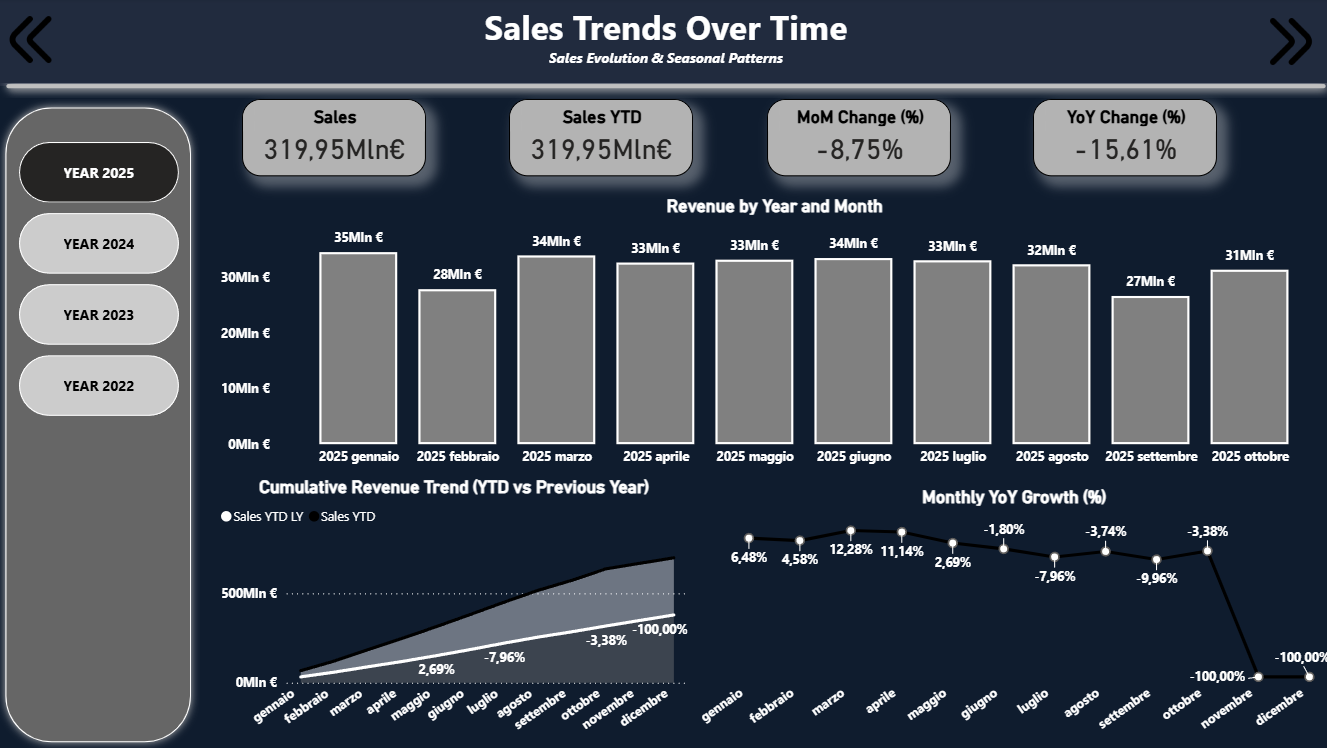

The dashboard page shown, as its layout file describes it:
{"tool":"powerbi","page":{"name":"Time Trends","canvas":[1280,720],"ordinal":4},"visuals":[{"type":"shape","box":[0,0,1280,84.2],"z":0},{"type":"shape","box":[0,72.5,1280,23.2],"z":1000},{"type":"textbox","box":[0,0,1280,85.5],"z":2000},{"type":"image","box":[0,17.3,63.6,45.3],"z":3000},{"type":"image","box":[1207.8,19.4,63.6,45.3],"z":4000},{"type":"card","title":"Sales","fields":{"Values":["MISURE.Fatturato"]},"box":[234.7,96.6,176.3,74.1],"z":5000},{"type":"card","title":"YoY Change (%)","fields":{"Values":["MISURE.Variazione Anno %"]},"box":[991.4,96.6,176.3,74.1],"z":6000},{"type":"card","title":"MoM Change (%)","fields":{"Values":["MISURE.Variazione Mese %"]},"box":[736.6,96.6,176.3,74.1],"z":7000},{"type":"card","title":"Sales YTD","fields":{"Values":["MISURE.Fatturato YTD"]},"box":[489.5,96.6,176.3,74.1],"z":8000},{"type":"columnChart","title":"Revenue by Year and Month","fields":{"Category":["CALENDARIO.Date.Variazione.Gerarchia data.Anno","CALENDARIO.Date.Variazione.Gerarchia data.Mese"],"Y":["MISURE.Fatturato"]},"box":[208.8,188.6,1071.2,268.4],"z":9000},{"type":"lineChart","title":"Monthly YoY Growth (%)","fields":{"Category":["CALENDARIO.Date.Variazione.Gerarchia data.Anno","CALENDARIO.Date.Variazione.Gerarchia data.Mese"],"Y":["MISURE.Variazione Anno %"]},"box":[665.8,467.1,614.2,252.6],"z":10000},{"type":"stackedAreaChart","title":"Cumulative Revenue Trend (YTD vs Previous Year)","fields":{"Category":["CALENDARIO.Date.Variazione.Gerarchia data.Anno","CALENDARIO.Date.Variazione.Gerarchia data.Mese"],"Y":["MISURE.Fatturato YTD LY","MISURE.Fatturato YTD"]},"box":[208.8,457,457,262.7],"z":11000},{"type":"shape","box":[0,96.3,193.6,623.5],"z":12000},{"type":"bookmarkNavigator","box":[21.4,137.5,153.5,264.3],"z":13000}]}

Visuals, with their boxes in screenshot pixels (x1, y1, x2, y2), scaled from the page's 1280x720 canvas onto the 1327x748 screenshot:
shape: pyautogui.locateOnScreen(0, 0, 1326, 87)
shape: pyautogui.locateOnScreen(0, 75, 1326, 99)
textbox: pyautogui.locateOnScreen(0, 0, 1326, 89)
image: pyautogui.locateOnScreen(0, 18, 66, 65)
image: pyautogui.locateOnScreen(1252, 20, 1318, 67)
"Sales" card: pyautogui.locateOnScreen(243, 100, 426, 177)
"YoY Change (%)" card: pyautogui.locateOnScreen(1028, 100, 1211, 177)
"MoM Change (%)" card: pyautogui.locateOnScreen(764, 100, 946, 177)
"Sales YTD" card: pyautogui.locateOnScreen(507, 100, 690, 177)
"Revenue by Year and Month" columnChart: pyautogui.locateOnScreen(216, 196, 1326, 475)
"Monthly YoY Growth (%)" lineChart: pyautogui.locateOnScreen(690, 485, 1326, 747)
"Cumulative Revenue Trend (YTD vs Previous Year)" stackedAreaChart: pyautogui.locateOnScreen(216, 475, 690, 747)
shape: pyautogui.locateOnScreen(0, 100, 201, 747)
bookmarkNavigator: pyautogui.locateOnScreen(22, 143, 181, 417)
